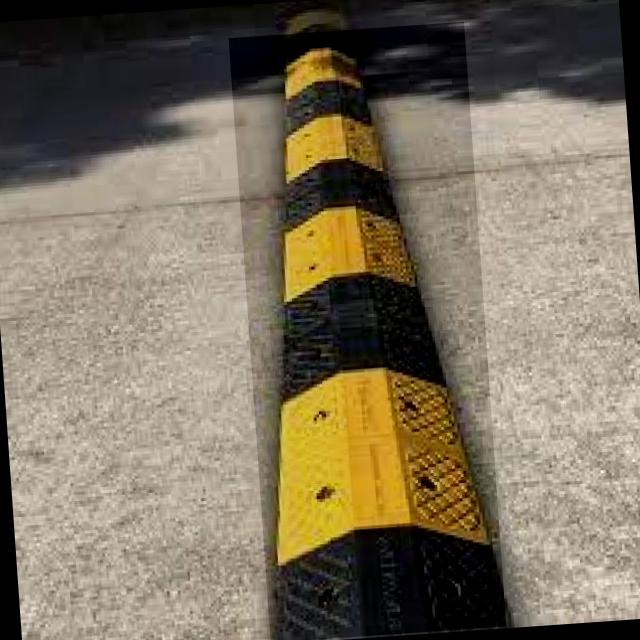bump: (228, 21, 505, 640)
